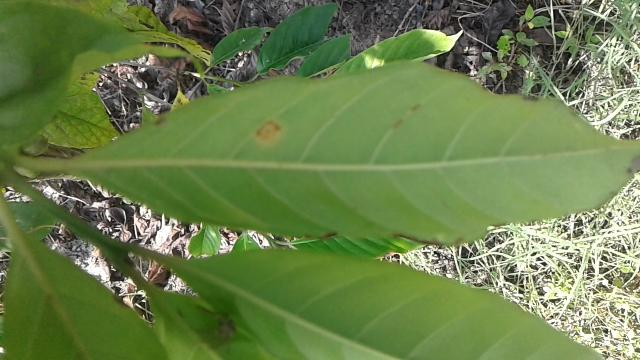rust_level_1: (74, 56, 640, 248)
